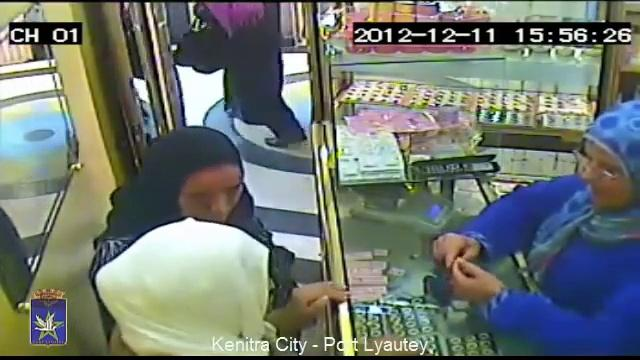1: (438, 243, 464, 274)
2: (382, 81, 640, 353)
3: (105, 205, 323, 360), (183, 0, 323, 156), (163, 142, 268, 242)
persone: (167, 30, 227, 79)
